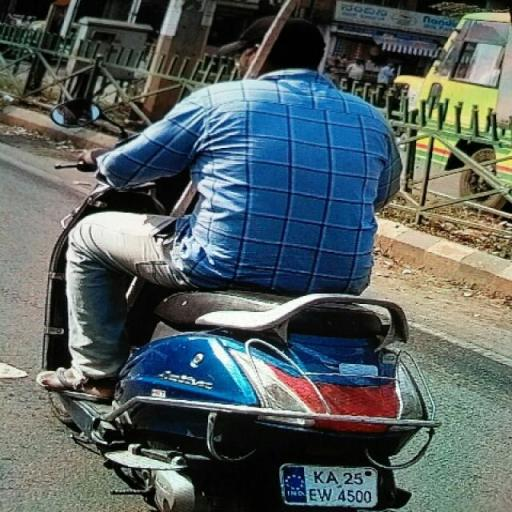bike: (34, 13, 442, 512)
numberplate: (281, 465, 379, 507)
withouthelmet: (242, 20, 326, 70)
